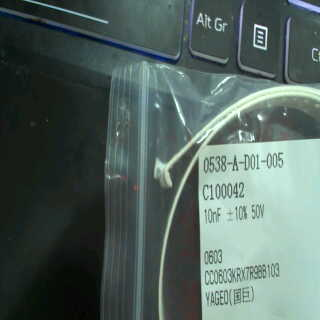10nF: (200, 205, 226, 228)
